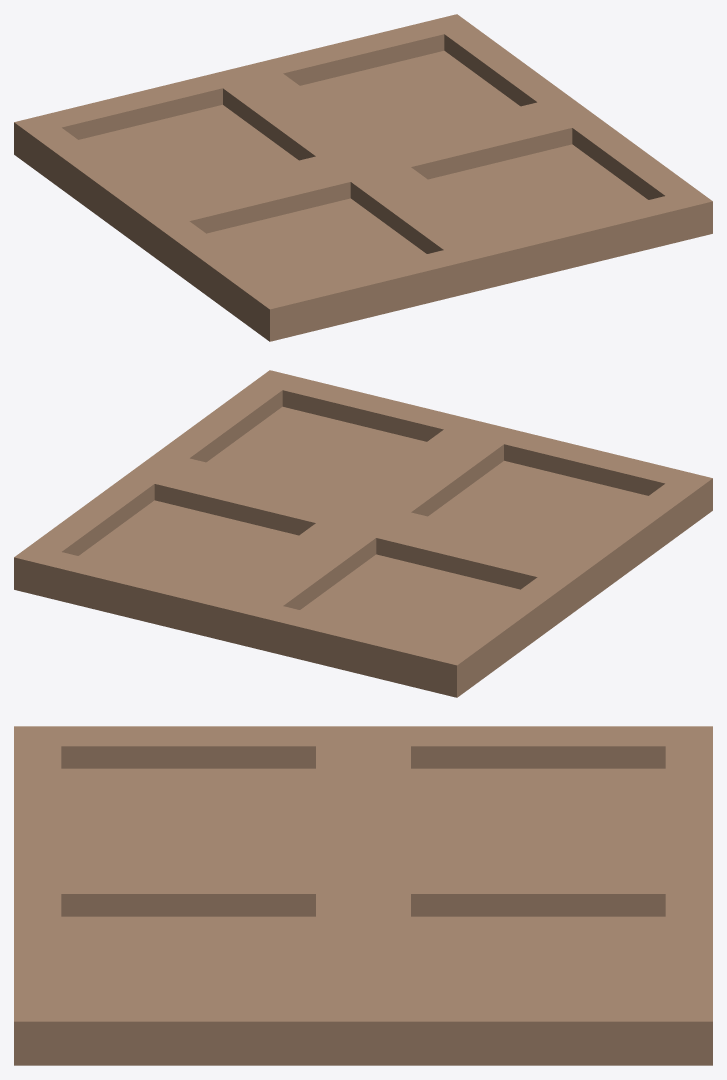
Rendered from BoxLid.fbx.
3 views of the same model, one above another, from view 1: azimuth 30°, elevation 25°; view 2: azimuth 150°, elevation 25°; view 3: azimuth 270°, elevation 25° (orthographic). The views are drawn at different scales.
Visible parts, largest first — view 1: BoxLid; view 2: BoxLid; view 3: BoxLid.
Boxes of the visible parts, left/top/right/bottom form: BoxLid: left=14, top=14, right=712, bottom=341; BoxLid: left=14, top=370, right=712, bottom=697; BoxLid: left=14, top=726, right=712, bottom=1065.
Bounding box in the file's own units: 200 × 13.97 × 200.
